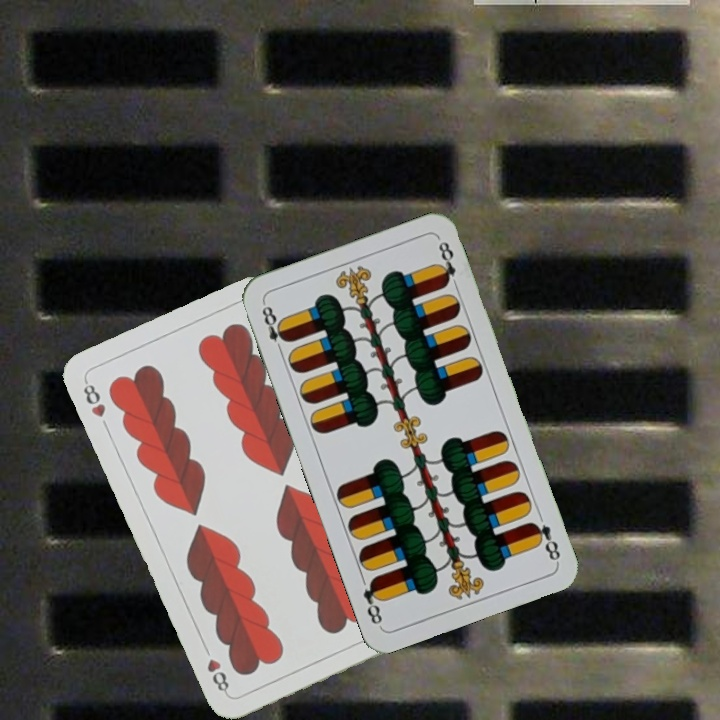E8: (258, 299, 291, 356), (526, 518, 563, 564)
H8: (79, 376, 108, 420)
